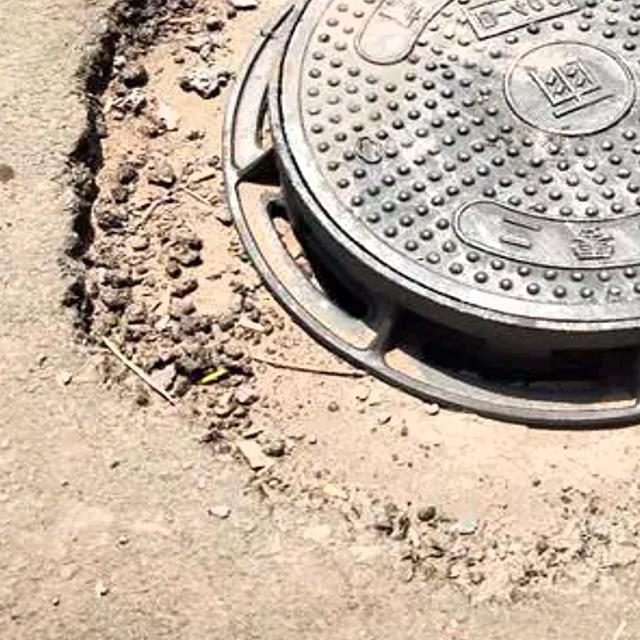circle: (75, 0, 640, 582)
